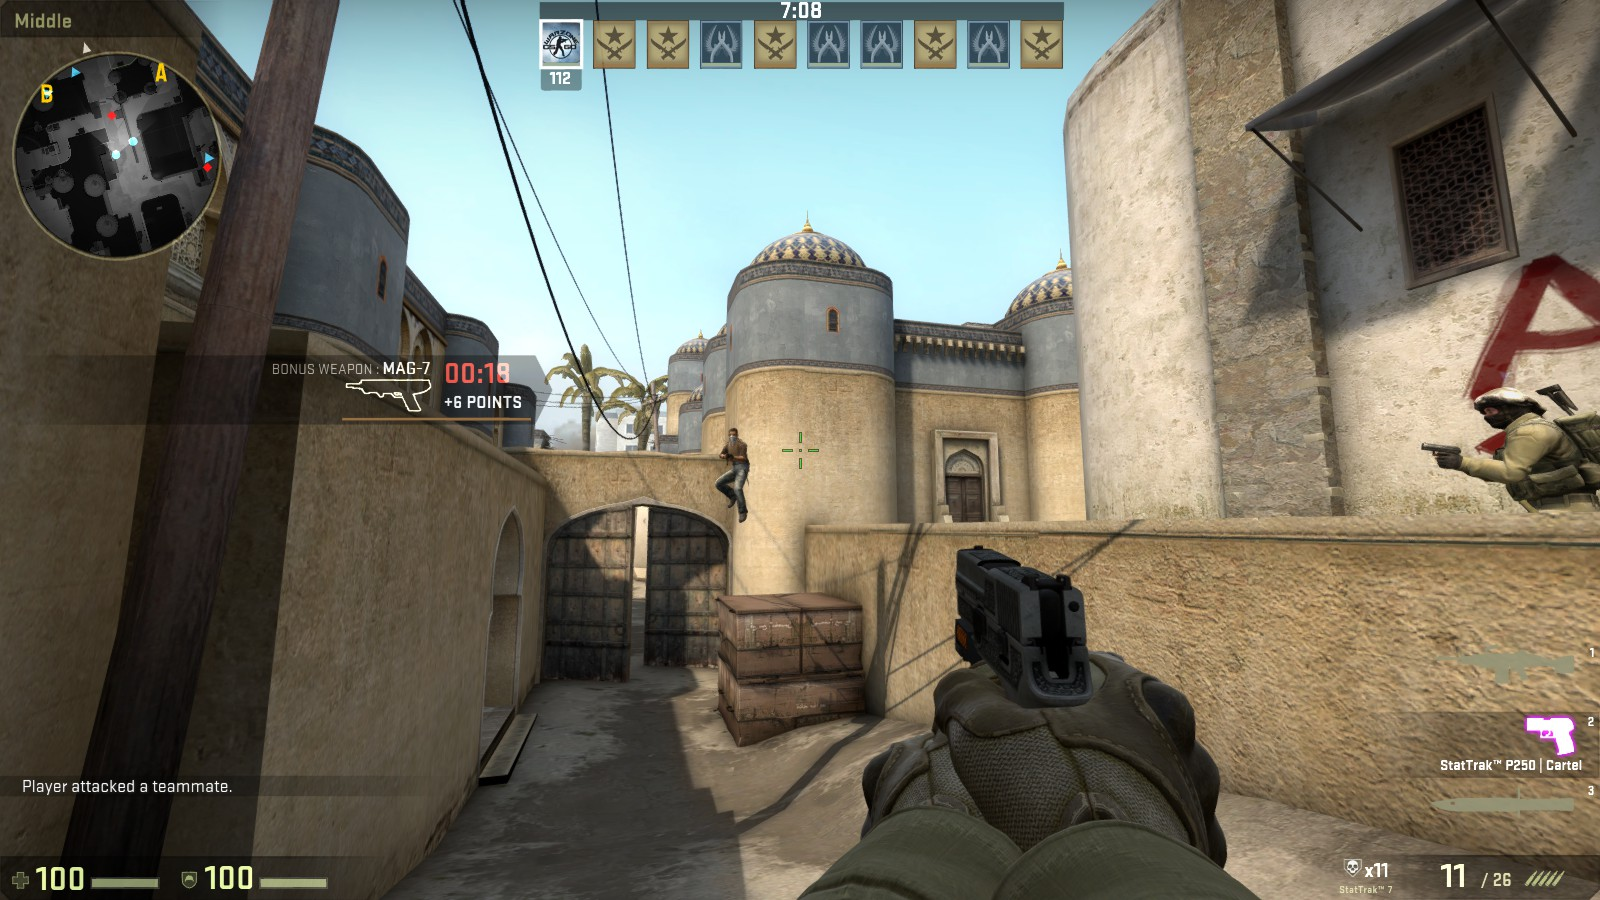c: (1466, 387, 1597, 513)
ch: (1473, 387, 1546, 430)
t: (718, 427, 749, 523)
th: (725, 427, 741, 445)
